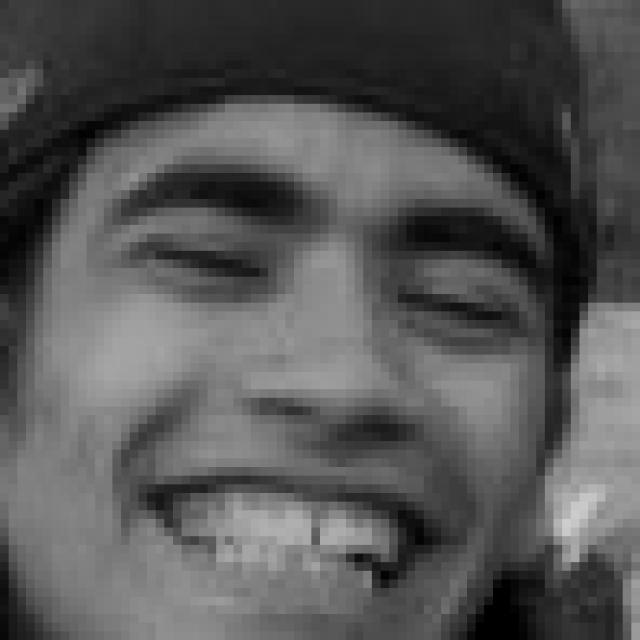real: (30, 16, 533, 622), (114, 203, 544, 345)
